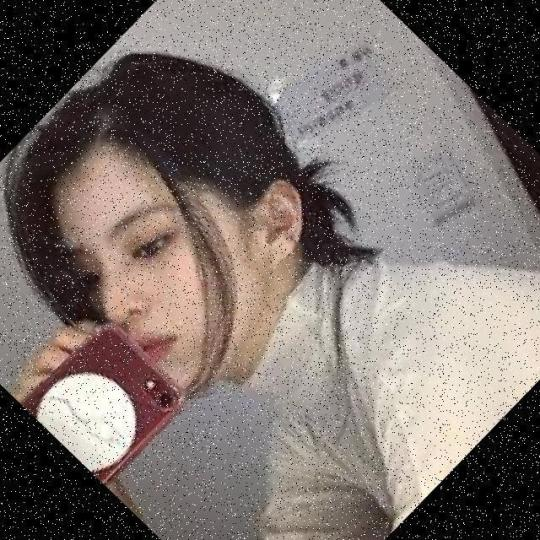phone: (19, 322, 188, 492)
